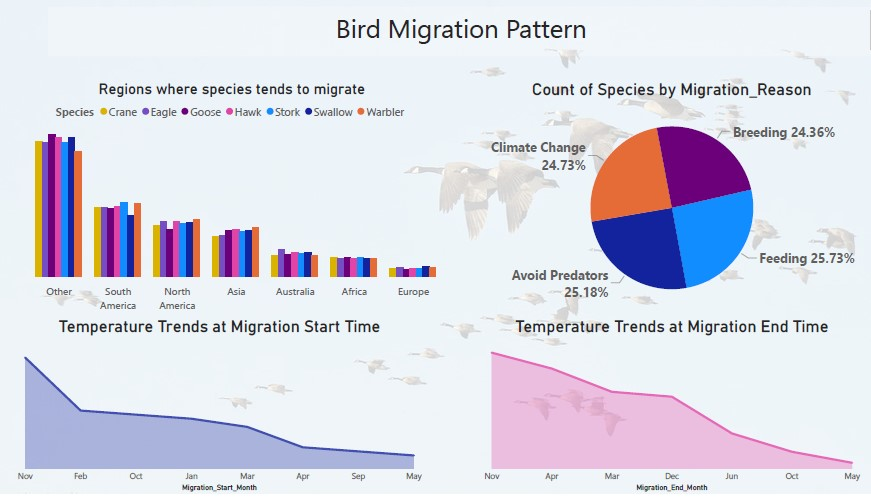

The page's visual inventory and layout, read from the dashboard file:
{"tool":"powerbi","page":{"name":"Migration Summary","canvas":[1280,720],"ordinal":1},"visuals":[{"type":"textbox","box":[70.6,11.3,1209.9,70.6],"z":0},{"type":"pieChart","fields":{"Y":["CountNonNull(bird_migration_data.Species)"],"Category":["bird_migration_data.Migration_Reason"]},"box":[676.2,117.2,604.2,344.5],"z":1000},{"type":"clusteredColumnChart","title":"Regions where species tends to migrate","fields":{"Category":["bird_migration_data.Start_Region"],"Series":["bird_migration_data.Species"],"Y":["CountNonNull(bird_migration_data.End_Region)"]},"box":[0,117.2,676.2,344.5],"z":2000},{"type":"stackedAreaChart","title":"Temperature Trends at Migration Start Time","fields":{"Category":["bird_migration_data.Migration_Start_Month"],"Y":["Count(bird_migration_data.Temperature_C)"]},"box":[0,461.6,639.5,258.4],"z":3000},{"type":"stackedAreaChart","title":"Temperature Trends at Migration End Time","fields":{"Category":["bird_migration_data.Migration_End_Month"],"Y":["CountNonNull(bird_migration_data.Temperature_C)"]},"box":[676.2,461.6,604.2,258.4],"z":4000}]}

Visuals, with their boxes in screenshot pixels (x1, y1, x2, y2), scaled from the page's 1280x720 canvas onto the 871x497 screenshot:
textbox: rect(48, 8, 870, 57)
pieChart - CountNonNull(bird_migration_data.Species) x bird_migration_data.Migration_Reason: rect(460, 81, 870, 319)
"Regions where species tends to migrate" clusteredColumnChart: rect(0, 81, 460, 319)
"Temperature Trends at Migration Start Time" stackedAreaChart: rect(0, 319, 435, 496)
"Temperature Trends at Migration End Time" stackedAreaChart: rect(460, 319, 870, 496)
